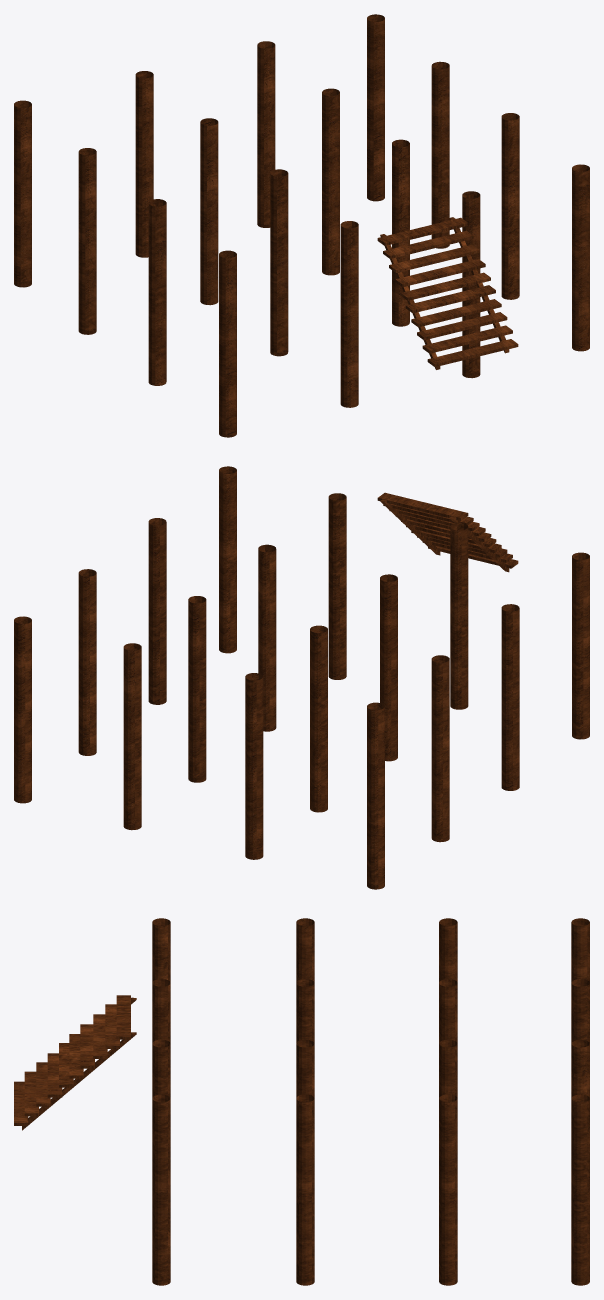
File: house_1_support.obj
3 views of the same model, one above another, from view 1: azimuth 30°, elevation 25°; view 2: azimuth 150°, elevation 25°; view 3: azimuth 270°, elevation 25° (orthographic). The views are drawn at different scales.
Visible parts, largest first — view 1: Cylinder_Cylinder.001; view 2: Cylinder_Cylinder.001; view 3: Cylinder_Cylinder.001.
Part boxes in pixels (<box>): Cylinder_Cylinder.001: <box>14,14,589,437</box>; Cylinder_Cylinder.001: <box>14,466,589,889</box>; Cylinder_Cylinder.001: <box>14,918,589,1285</box>.
Size of the model in its own units: 4.17 by 1.94 by 5.51.
2 materials, 2 textured.
